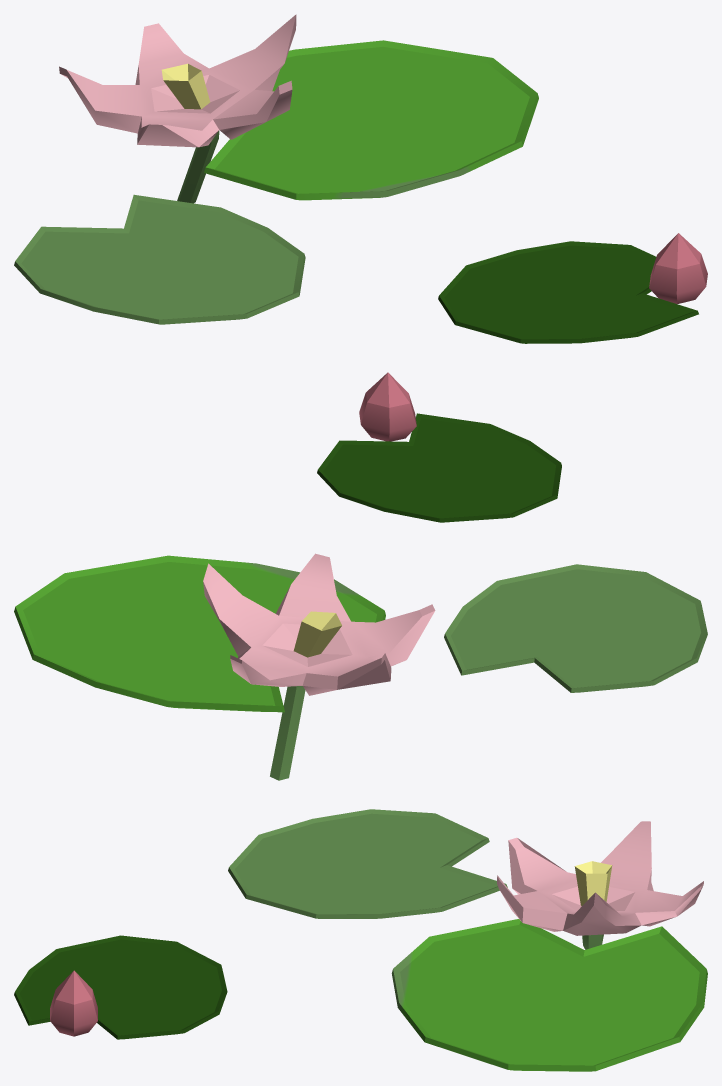
The model's file is LillyPads_flowers.fbx.
3 views of the same model, one above another, from view 1: azimuth 30°, elevation 25°; view 2: azimuth 150°, elevation 25°; view 3: azimuth 270°, elevation 25° (orthographic). The views are drawn at different scales.
Visible parts, largest first — view 1: Lillypads; view 2: Lillypads; view 3: Lillypads.
Part boxes in pixels (box(x1,y1,x2,y2)): Lillypads: box(14, 14, 707, 343); Lillypads: box(14, 372, 707, 780); Lillypads: box(14, 809, 707, 1071).
Size of the model in its own units: 2.81 by 0.8451 by 3.18.
